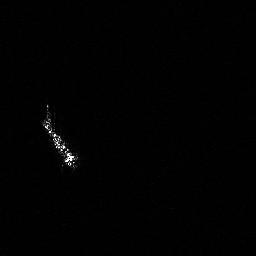ship: (37, 101, 83, 172)
